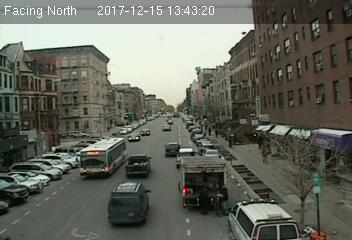bus: (77, 138, 127, 177)
car: (107, 181, 151, 225), (126, 155, 153, 177), (177, 148, 196, 166), (163, 143, 180, 157), (126, 134, 140, 143)
pedestrian: (258, 144, 271, 166)
police: (226, 198, 302, 240)
truck: (179, 156, 229, 211)
